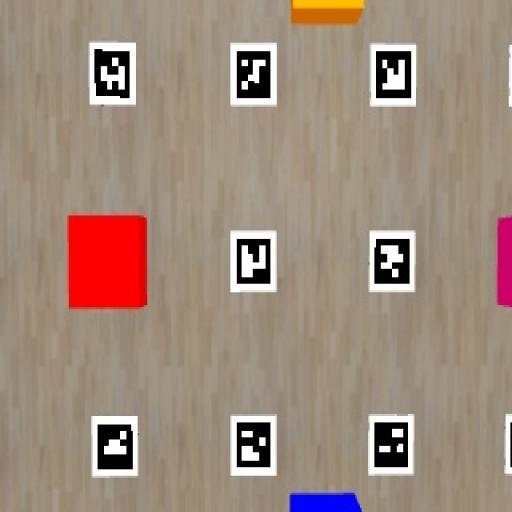car: (496, 216, 511, 307), (288, 493, 361, 511)
fire: (68, 216, 147, 309), (292, 0, 364, 25)
